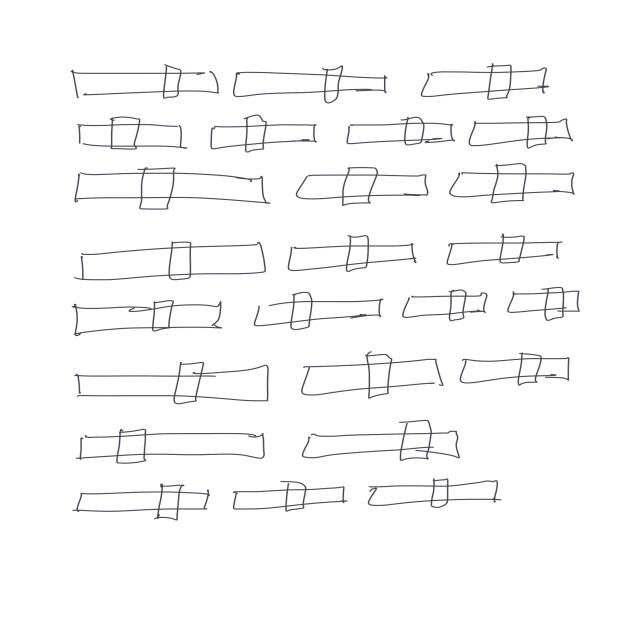Slider: (65, 159, 272, 218), (72, 357, 279, 407), (74, 235, 272, 282), (52, 51, 224, 102), (70, 426, 270, 469), (292, 419, 480, 463), (295, 346, 448, 398), (412, 56, 557, 108), (230, 59, 392, 104), (60, 294, 229, 337), (448, 158, 579, 212), (432, 224, 574, 273), (65, 480, 217, 522), (250, 288, 386, 333), (201, 111, 327, 158), (68, 111, 187, 160), (288, 166, 436, 205), (282, 233, 426, 273), (223, 477, 349, 522), (364, 475, 513, 513), (338, 110, 461, 155), (457, 348, 580, 393), (501, 280, 596, 326), (463, 110, 572, 149), (396, 282, 491, 320)
